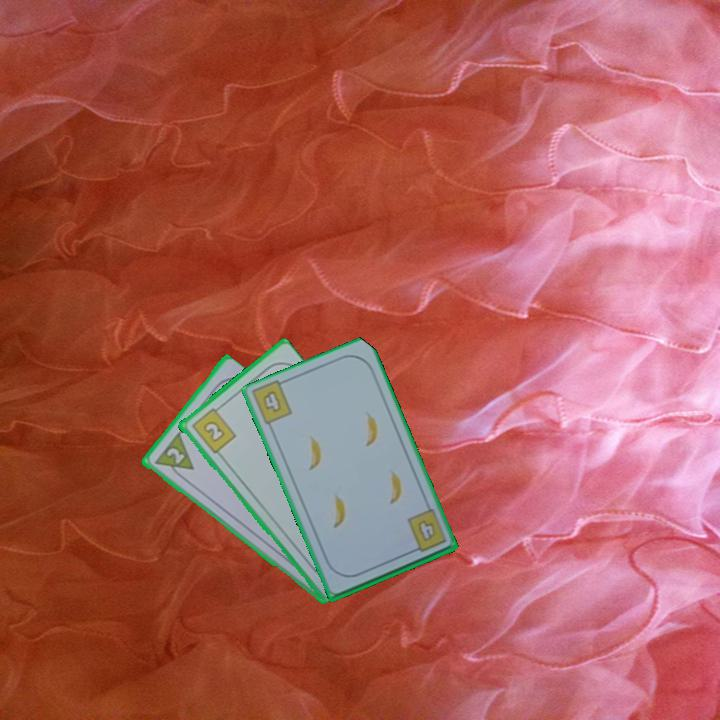2b: (188, 402, 238, 456)
2p: (162, 444, 187, 467)
4b: (403, 507, 449, 556), (259, 387, 284, 415)
